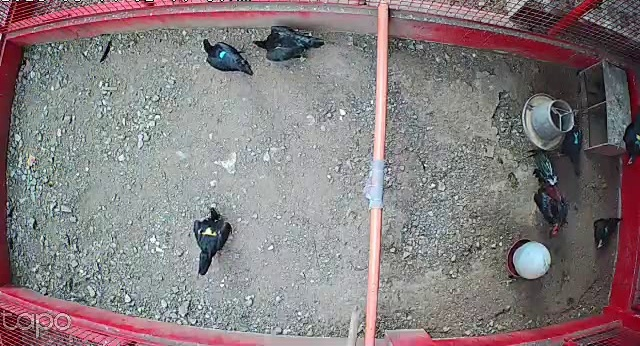Chicken: (251, 22, 328, 67), (189, 204, 236, 276), (199, 37, 252, 77), (554, 113, 586, 178), (614, 100, 640, 173), (587, 207, 624, 252)
Rooster: (521, 145, 570, 244)
Saddle_Color_Blue: (220, 51, 225, 58)
Saddle_Color_Yellow: (199, 221, 221, 237)
Saddle_Color_YellowGreen: (635, 133, 640, 146)
